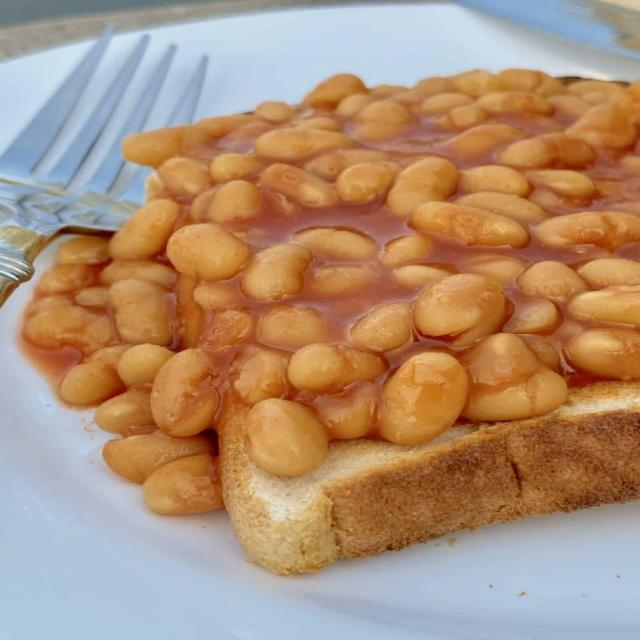beans: (460, 334, 566, 421), (379, 353, 468, 444), (414, 274, 505, 345), (247, 399, 328, 476), (151, 350, 219, 436), (103, 430, 213, 483), (412, 202, 529, 247), (143, 453, 223, 515), (287, 344, 386, 392), (167, 224, 249, 281), (109, 199, 179, 260), (25, 305, 113, 353), (387, 157, 458, 215), (110, 280, 173, 345), (533, 211, 639, 249), (242, 244, 313, 300), (60, 346, 127, 405), (122, 124, 209, 167), (314, 381, 378, 439), (567, 328, 639, 379), (260, 164, 337, 207), (254, 128, 353, 161), (498, 134, 594, 168), (257, 305, 331, 349), (232, 346, 287, 405), (349, 302, 412, 351), (567, 103, 635, 148), (454, 192, 546, 223), (568, 286, 639, 326), (94, 388, 154, 435), (442, 124, 521, 159), (517, 261, 587, 299), (294, 228, 375, 260), (336, 162, 399, 203), (304, 149, 387, 180), (117, 344, 173, 387), (122, 127, 182, 167), (207, 180, 261, 222), (174, 275, 205, 347), (308, 265, 375, 298), (200, 308, 253, 349), (459, 166, 530, 196), (304, 74, 366, 108), (158, 158, 210, 196), (505, 299, 561, 334), (527, 170, 595, 198), (100, 261, 176, 286), (495, 69, 563, 96), (463, 254, 526, 283), (542, 134, 595, 168), (577, 258, 639, 287), (477, 91, 553, 114), (498, 138, 555, 168), (38, 264, 93, 295), (380, 234, 432, 266), (209, 153, 263, 182), (520, 335, 560, 372), (355, 100, 413, 125), (196, 114, 256, 138), (394, 265, 454, 289), (57, 236, 108, 264), (451, 70, 502, 97), (194, 283, 240, 309), (437, 105, 488, 128), (420, 93, 473, 114), (353, 121, 405, 142), (548, 95, 592, 118), (227, 120, 272, 142), (335, 94, 376, 117), (28, 295, 73, 315), (567, 81, 623, 97), (530, 188, 566, 212), (254, 102, 295, 123), (75, 286, 110, 308), (414, 77, 453, 96), (294, 117, 340, 131), (370, 84, 407, 97), (620, 155, 639, 170)
sliced bread: (218, 381, 639, 575)
